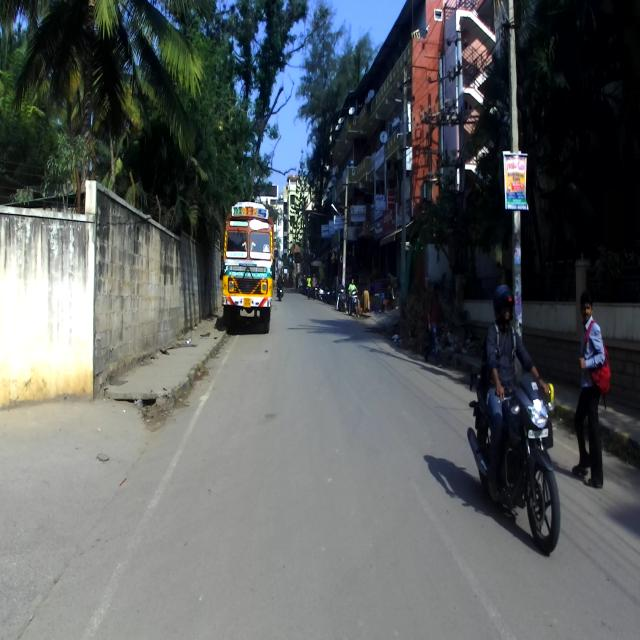motorcycle ahead at: (467, 368, 564, 554)
person ahead at: (574, 289, 612, 498)
truck ahead at: (218, 196, 277, 336)
